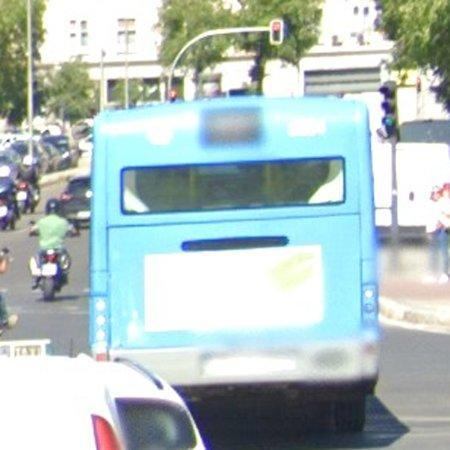buses: (90, 98, 381, 388)
